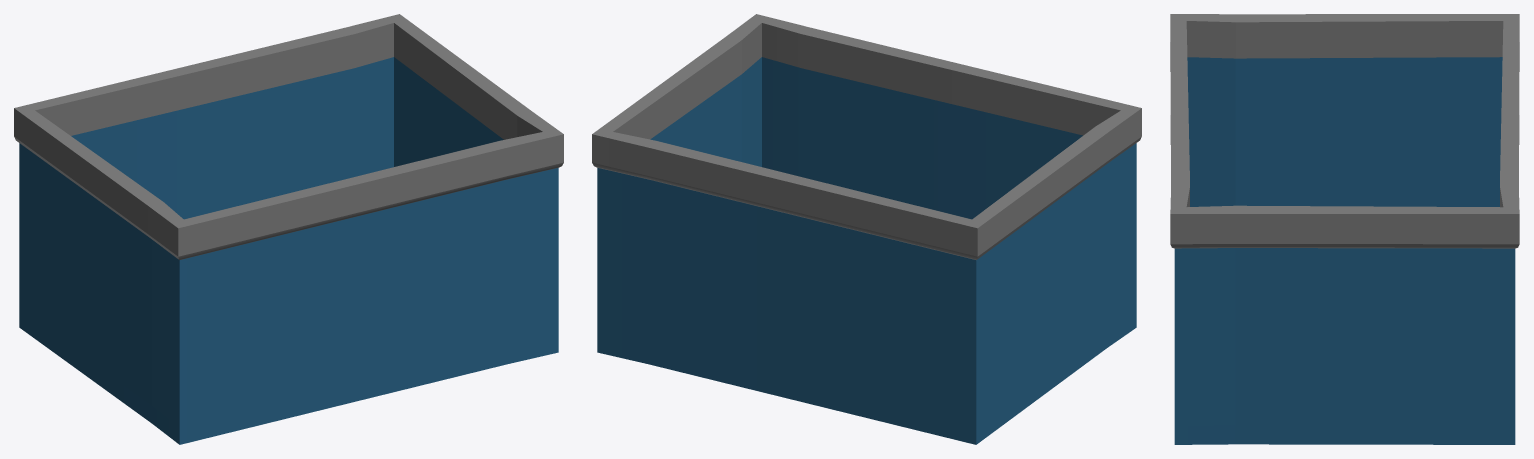
File: Building1_Base.fbx
3 views of the same model, side by side, from view 1: azimuth 30°, elevation 25°; view 2: azimuth 150°, elevation 25°; view 3: azimuth 270°, elevation 25° (orthographic). The views are drawn at different scales.
Parts seen in each view (by area): view 1: Building1_Base; view 2: Building1_Base; view 3: Building1_Base.
Boxes of the visible parts, left/top/right/bottom form: Building1_Base: left=14, top=14, right=563, bottom=444; Building1_Base: left=592, top=14, right=1141, bottom=444; Building1_Base: left=1170, top=14, right=1519, bottom=444.
Size of the model in its own units: 218 by 118 by 161.
